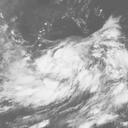cyclone: (26, 34, 102, 101)
